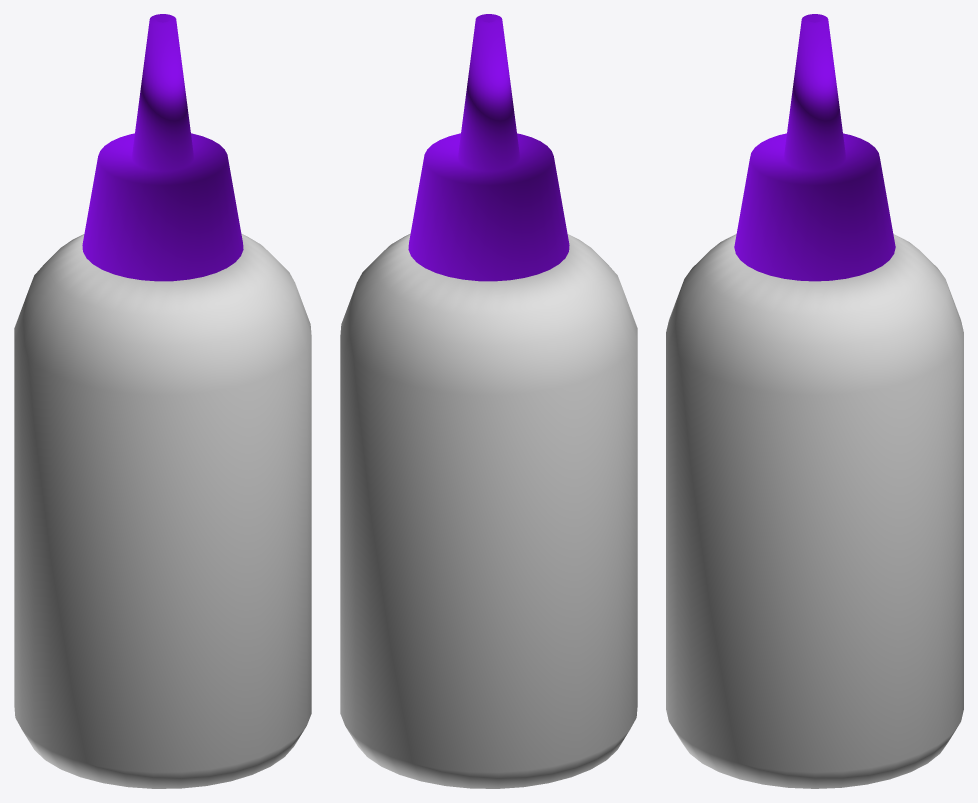
3 renders of one model, left to right at view 1: azimuth 30°, elevation 25°; view 2: azimuth 150°, elevation 25°; view 3: azimuth 270°, elevation 25°, orthographic.
Visible parts, largest first — view 1: Cylinder, Cylinder.001; view 2: Cylinder, Cylinder.001; view 3: Cylinder, Cylinder.001.
Part boxes in pixels (<box>): Cylinder: <box>14,233,311,788</box>; Cylinder.001: <box>82,14,243,281</box>; Cylinder: <box>340,233,637,788</box>; Cylinder.001: <box>408,14,569,281</box>; Cylinder: <box>666,234,963,788</box>; Cylinder.001: <box>734,14,895,281</box>.
Bounding box in the file's own units: 8.42 × 22.22 × 8.42.
